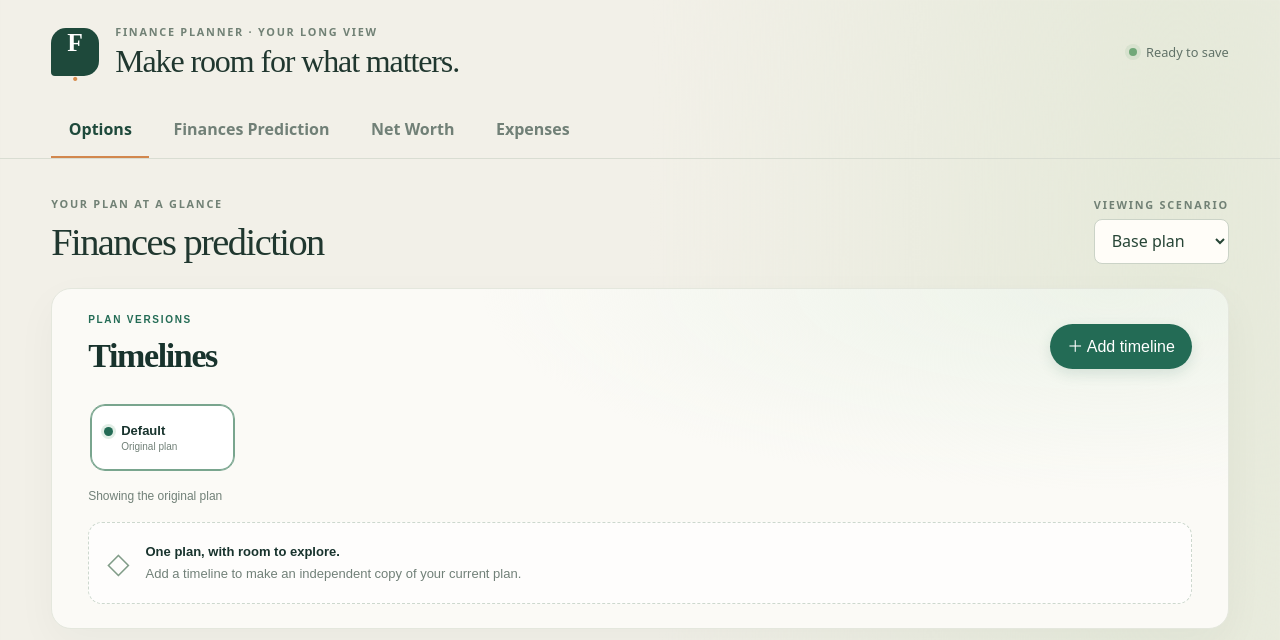
Test: App integration (Phase 5 GUI acceptance) › shows committed purchase funding across the configured primary and ordered fallbacks
The image size is (1280, 640).
Click the button "Finances Prediction": (251,131) [156,104,347,158]
(page scrolled)
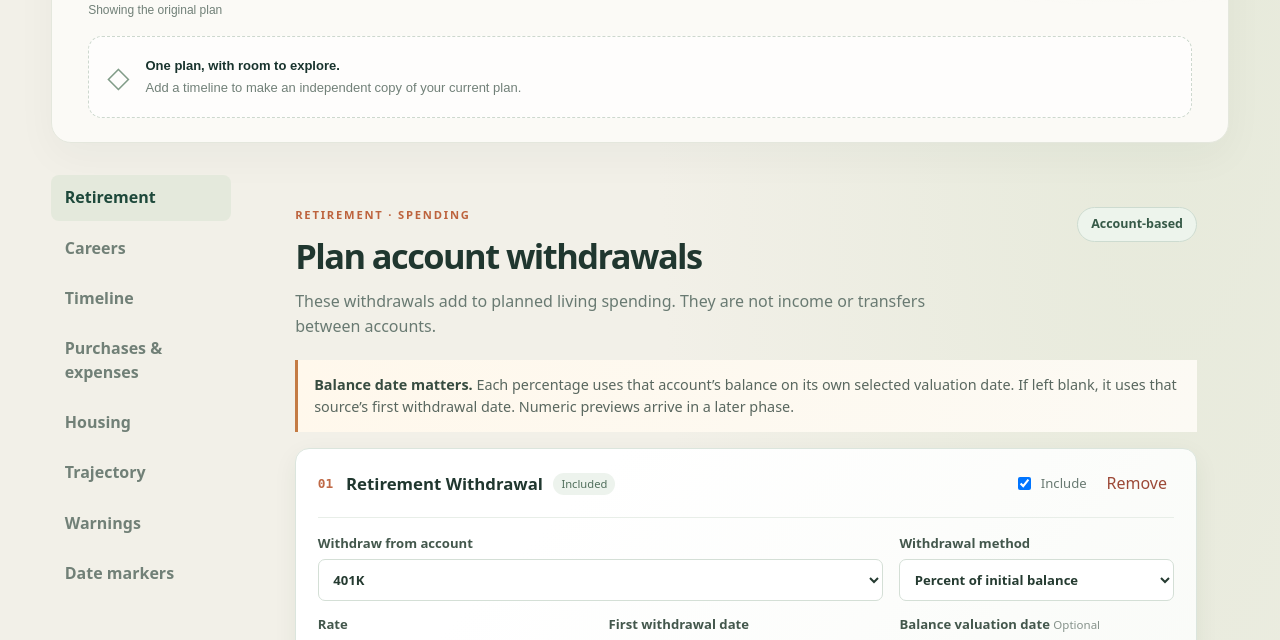
Click the button "Purchases & expenses": (141,361) [51,326,231,395]
(page scrolled)
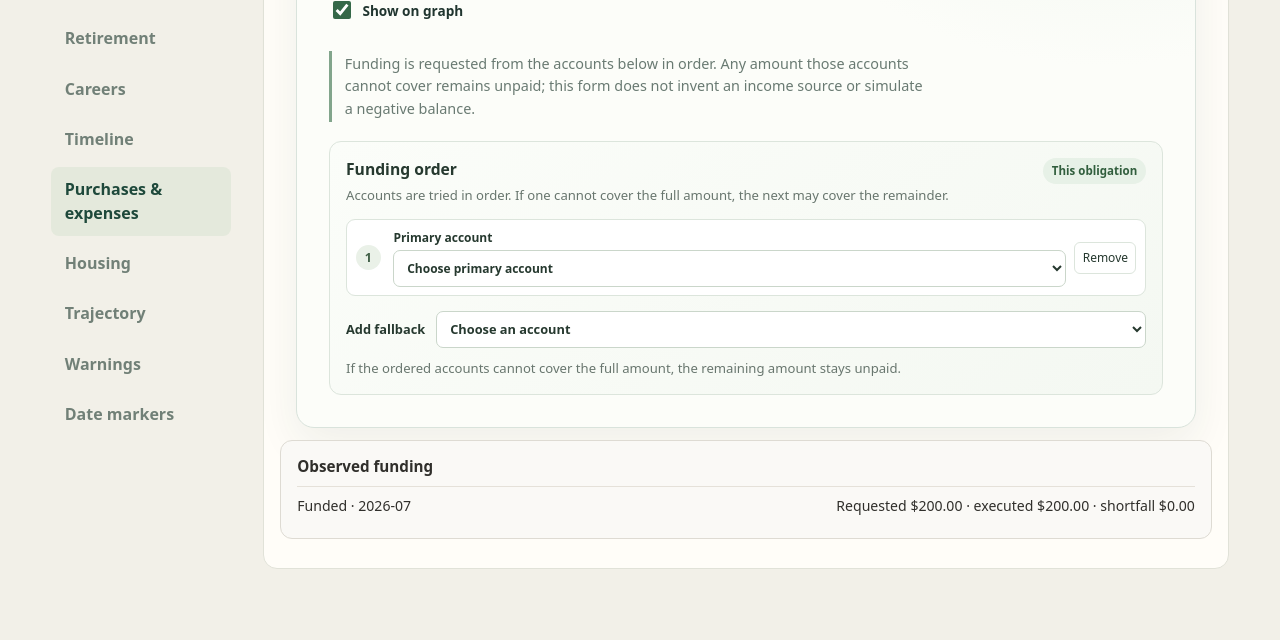
Click the text "Funded · 2026-07": (354,506) [297,496,411,516]
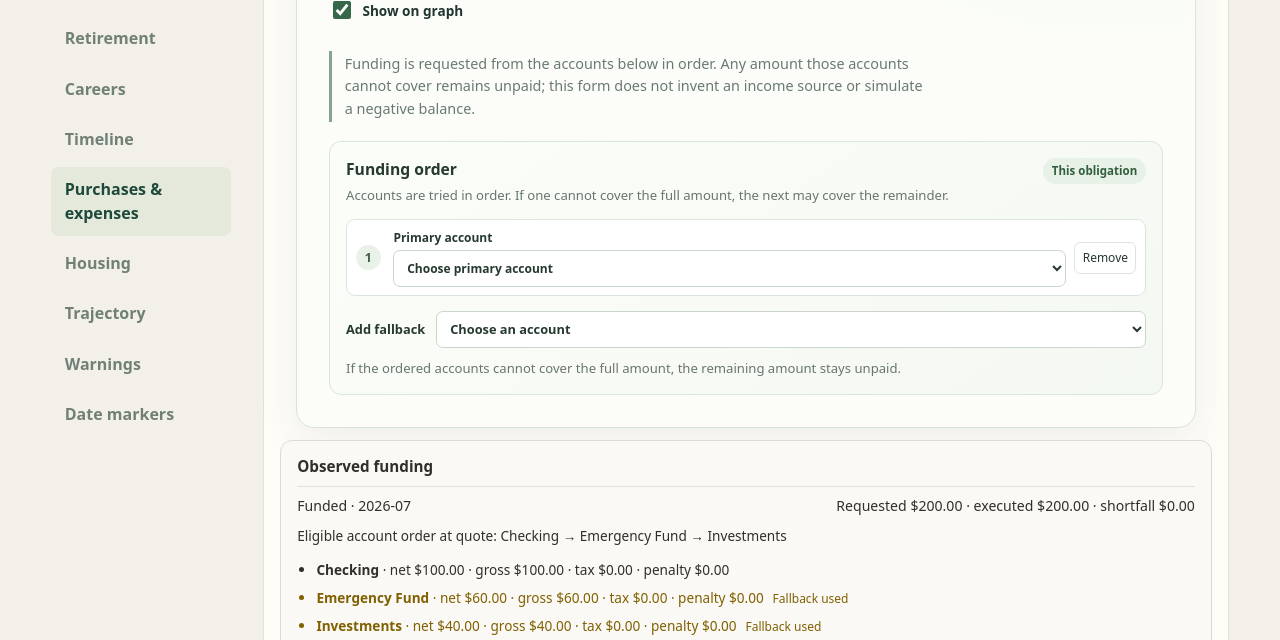
expect the text "Requested $200.00 · executed $200.00 · shortfall $0.00" is shown: met, box [836,496,1195,516]
expect the text "Eligible account order at quote:" shows "Checking → Emergency Fund → Investments": met, box [500,526,787,545]
expect the list item that starts with "Checking" reads "Checking · net $100.00 · gross $100.00 · tax $0.00 · penalty $0.00": met, box [316,560,729,580]
